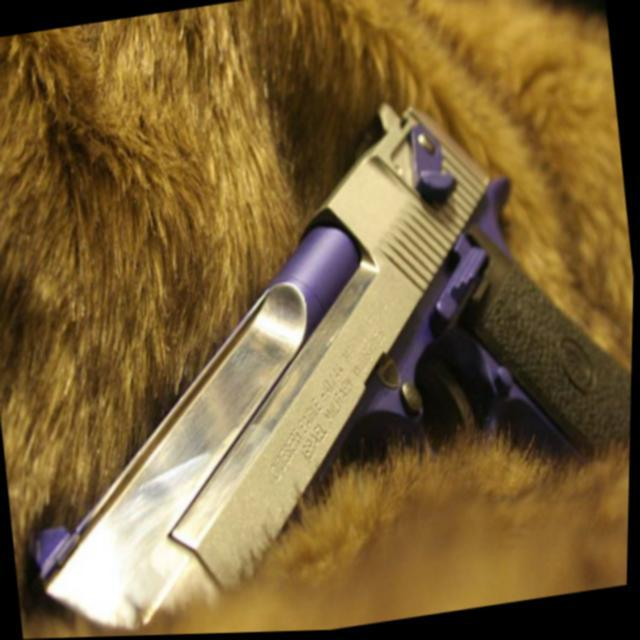weapon: (0, 67, 639, 640)
